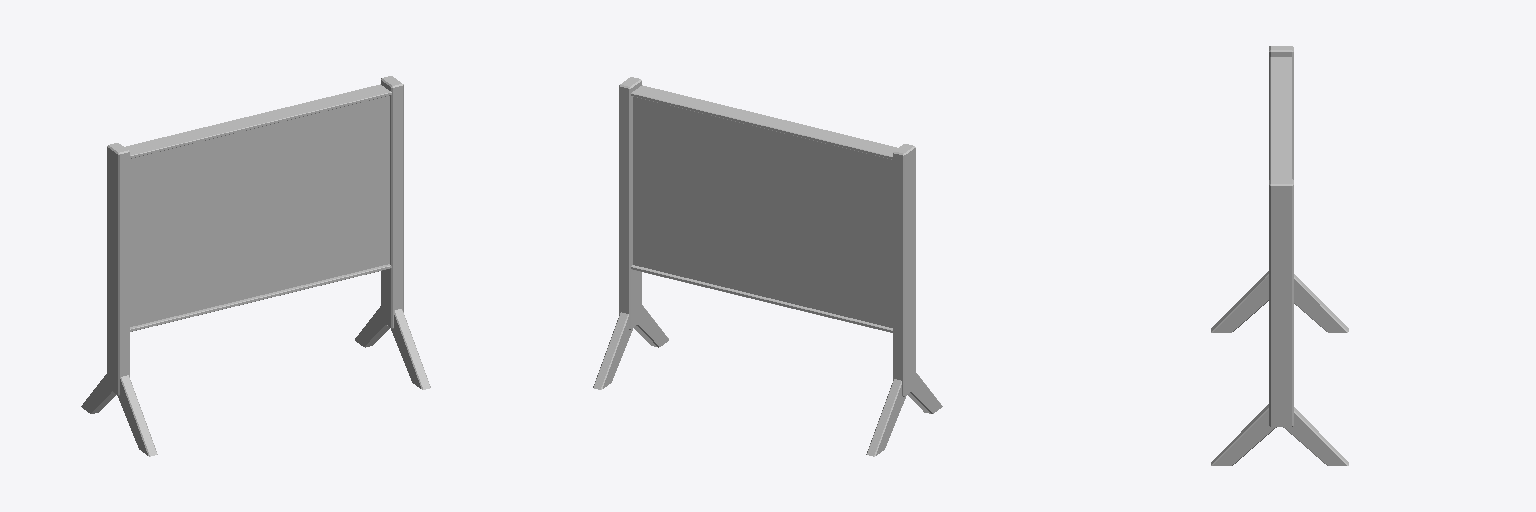
Rendered from pinboard.obj.
The picture shows the model from 3 angles: view 1: azimuth 30°, elevation 25°; view 2: azimuth 150°, elevation 25°; view 3: azimuth 270°, elevation 25°; orthographic projection.
Parts seen in each view (by area): view 1: Standing_pinboard; view 2: Standing_pinboard; view 3: Standing_pinboard.
Boxes of the visible parts, x1=… form: Standing_pinboard: x1=81, y1=76, x2=430, y2=456; Standing_pinboard: x1=593, y1=77, x2=942, y2=456; Standing_pinboard: x1=1211, y1=46, x2=1348, y2=465.
Size of the model in its own units: 205 by 193 by 85.46.